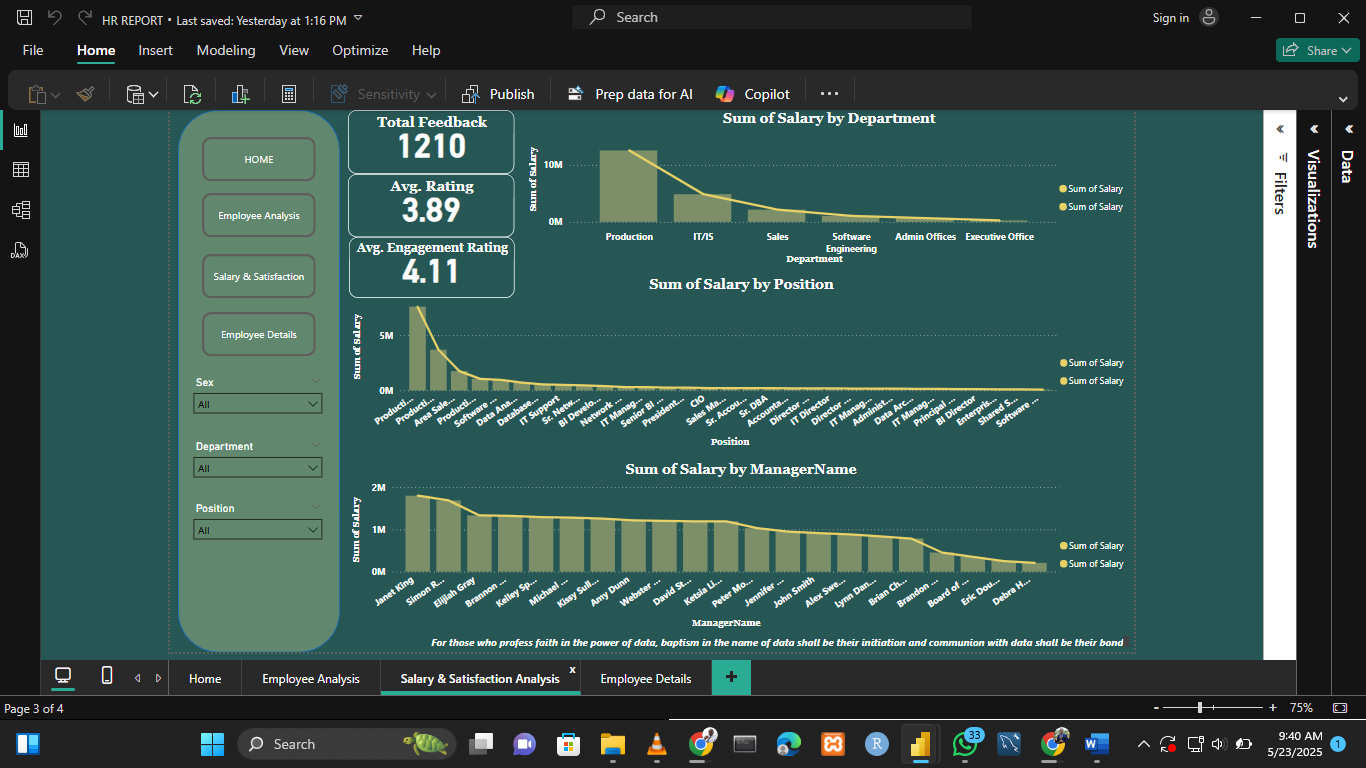

This screenshot's page, from the dashboard's own definition file:
{"tool":"powerbi","page":{"name":"Salary & Satisfaction Analysis","canvas":[1280,720],"ordinal":2},"visuals":[{"type":"shape","box":[10.1,0,215,720.6],"z":0},{"type":"actionButton","box":[42,35.3,151.2,58.8],"z":1000},{"type":"actionButton","box":[42,110.9,151.2,58.8],"z":2000},{"type":"actionButton","box":[42,191.5,151.2,58.8],"z":3000},{"type":"actionButton","box":[42,268.8,151.2,58.8],"z":4000},{"type":"slicer","fields":{"Values":["HRDataset_v14.Sex"]},"box":[21.8,347.7,191.5,65.5],"z":5000},{"type":"slicer","fields":{"Values":["HRDataset_v14.Department"]},"box":[21.8,433.4,191.5,65.5],"z":6000},{"type":"slicer","fields":{"Values":["HRDataset_v14.Position"]},"box":[21.8,515.7,191.5,68.9],"z":7000},{"type":"lineClusteredColumnComboChart","title":" Sum of Salary by Position","fields":{"Y":["HRDataset_v14.Salary"],"Y2":["HRDataset_v14.Salary"],"Category":["HRDataset_v14.Position"]},"box":[237.5,221.1,1042.7,233],"z":8000},{"type":"lineClusteredColumnComboChart","title":"Sum of Salary by ManagerName","fields":{"Category":["HRDataset_v14.ManagerName"],"Y":["HRDataset_v14.Salary"],"Y2":["HRDataset_v14.Salary"]},"box":[236,466.1,1044.1,227.1],"z":9000},{"type":"lineClusteredColumnComboChart","title":" Sum of Salary by Department","fields":{"Y":["HRDataset_v14.Salary"],"Y2":["HRDataset_v14.Salary"],"Category":["HRDataset_v14.Department"]},"box":[472,0,808.1,210.6],"z":10000},{"type":"card","title":"Total Feedback","fields":{"Values":["HRDataset_v14.EmpSatisfaction"]},"box":[236,0,221.1,85.1],"z":11000},{"type":"card","title":"Avg. Rating","fields":{"Values":["HRDataset_v14.EmpSatisfaction"]},"box":[236,85.1,221.1,83.7],"z":12000},{"type":"card","title":"Avg. Engagement Rating","fields":{"Values":["HRDataset_v14.EngagementSurvey"]},"box":[237.5,168.8,219.6,80.7],"z":13000},{"type":"textbox","box":[287.7,693.7,991,26.2],"z":14000}]}

Visuals, with their boxes on the page's 1280x720 design canvas (x1, y1, x2, y2). These are canvas units, not pixel positions in the 1366x768 screenshot, which may show the page scaled, cropped or inside an application window:
shape: bbox(10, 0, 225, 721)
actionButton: bbox(42, 35, 193, 94)
actionButton: bbox(42, 111, 193, 170)
actionButton: bbox(42, 192, 193, 250)
actionButton: bbox(42, 269, 193, 328)
slicer - HRDataset_v14.Sex: bbox(22, 348, 213, 413)
slicer - HRDataset_v14.Department: bbox(22, 433, 213, 499)
slicer - HRDataset_v14.Position: bbox(22, 516, 213, 585)
" Sum of Salary by Position" lineClusteredColumnComboChart: bbox(238, 221, 1280, 454)
"Sum of Salary by ManagerName" lineClusteredColumnComboChart: bbox(236, 466, 1280, 693)
" Sum of Salary by Department" lineClusteredColumnComboChart: bbox(472, 0, 1280, 211)
"Total Feedback" card: bbox(236, 0, 457, 85)
"Avg. Rating" card: bbox(236, 85, 457, 169)
"Avg. Engagement Rating" card: bbox(238, 169, 457, 250)
textbox: bbox(288, 694, 1279, 720)
